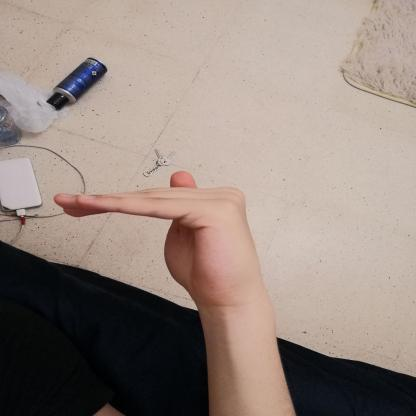KHAA: (35, 161, 287, 311)
